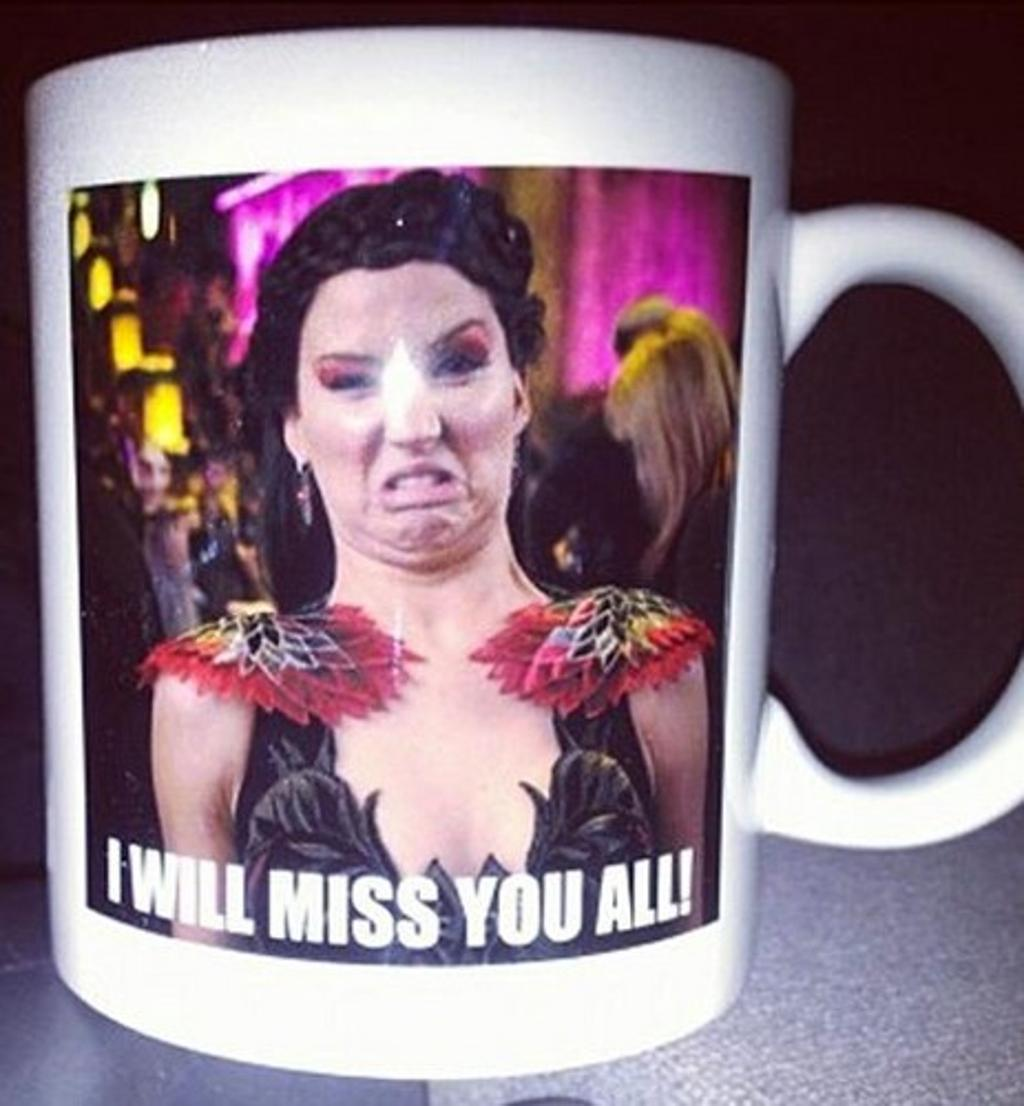face: (297, 269, 515, 550)
